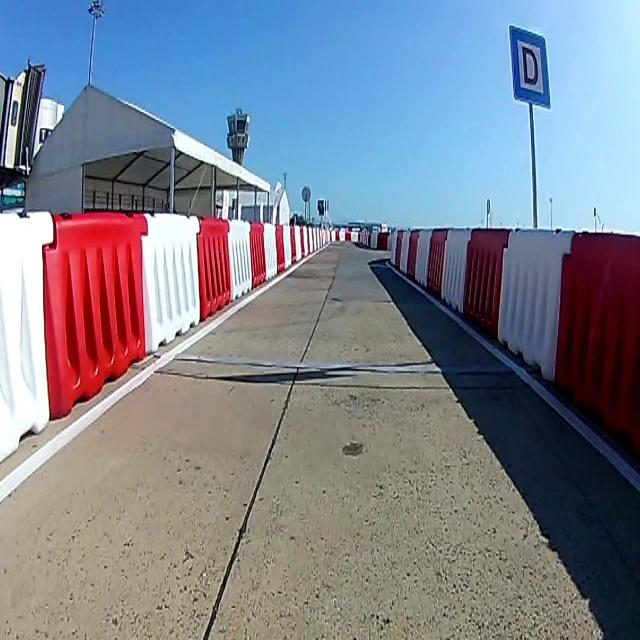durak: (509, 25, 547, 106)
